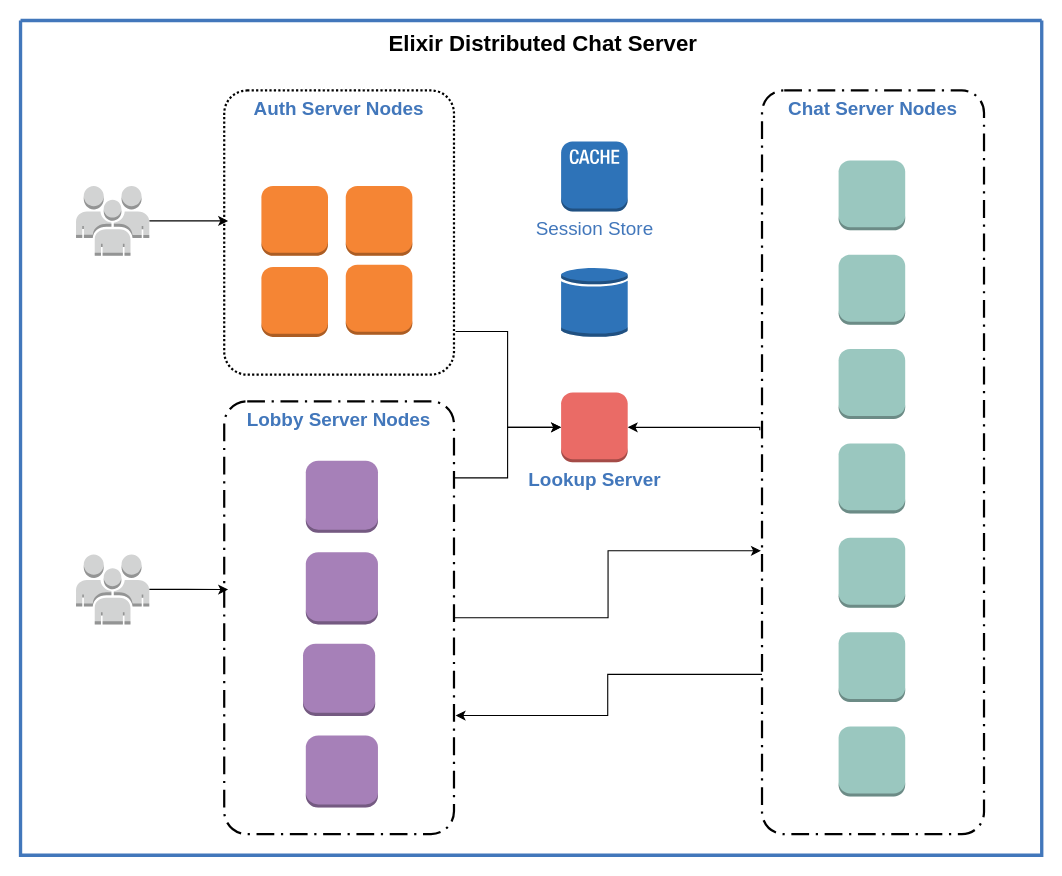
The diagram is 1062 pixels wide and 876 high, and some of its shapes have lost their labels. The shapes that lost their labels are listed below. From the top down, each one's centre as x and y in pixels, then its label:
point 112,220: Unauthenticated Users
point 594,301: Database
point 112,588: authenticated user
